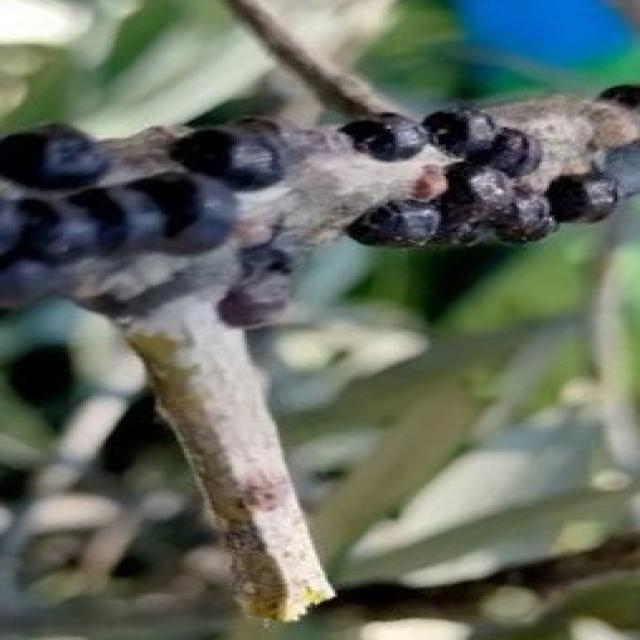BlackScale: (0, 173, 232, 306), (348, 158, 618, 248), (172, 119, 290, 190), (0, 122, 108, 190), (338, 112, 418, 161), (466, 128, 537, 178), (426, 115, 496, 156)
